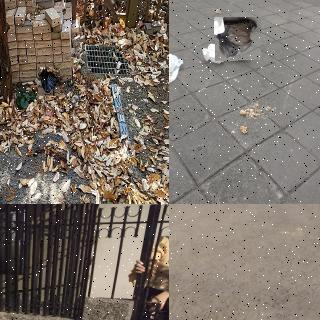Garbage: (215, 17, 261, 62), (38, 67, 60, 96)
